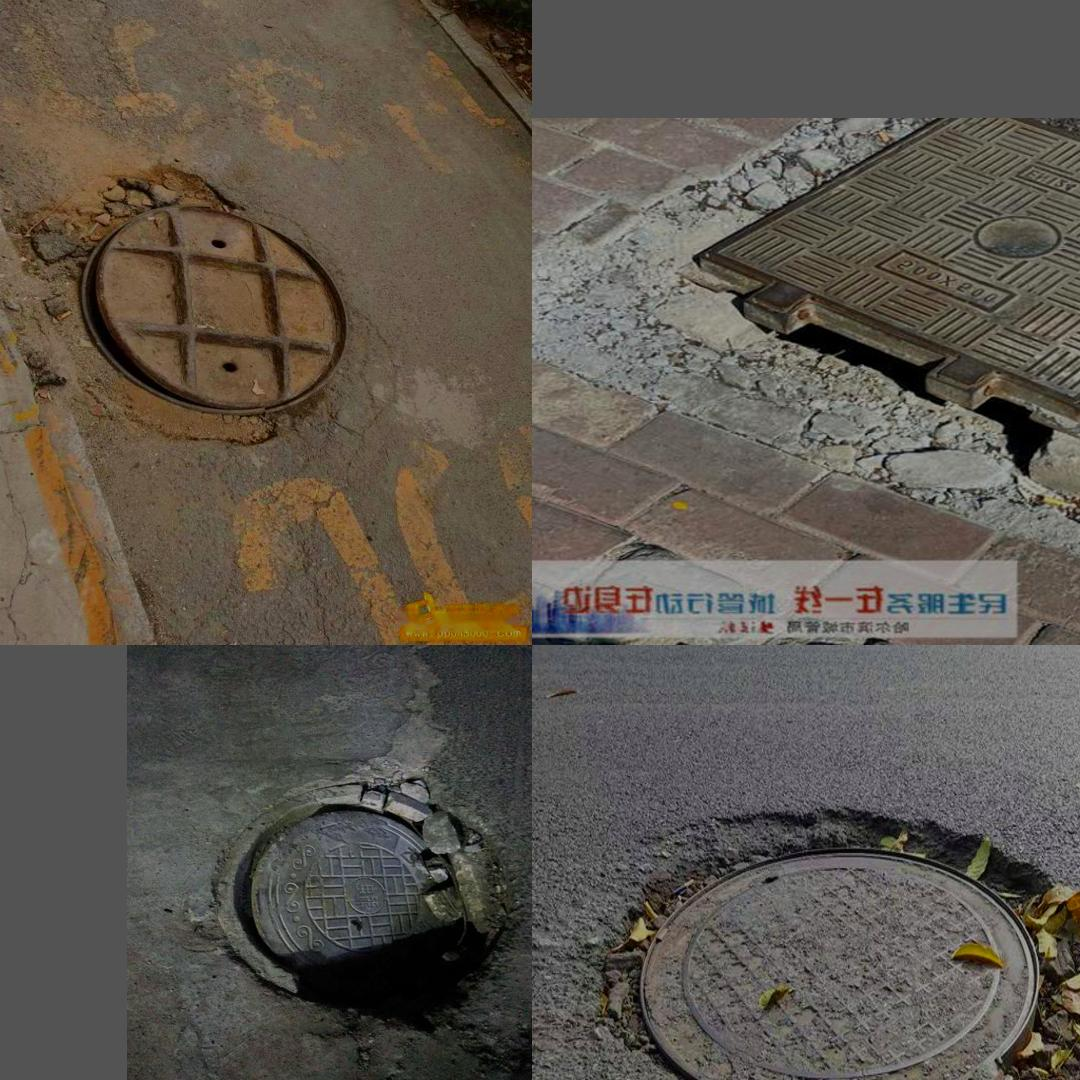circle: (542, 126, 1080, 538), (547, 806, 1080, 1080), (0, 160, 391, 463), (202, 781, 519, 1016)
